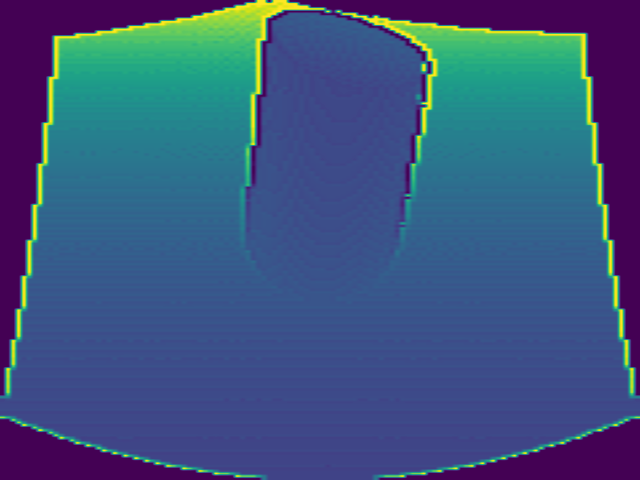cylinder: (241, 9, 436, 290)
